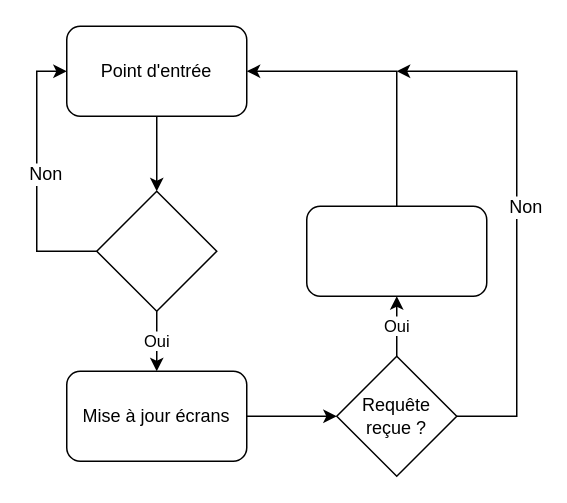
This 567x503 diagram has some shape labels left out. Here are the shapes that lost their labels. From the top down, the centre of each, then its label:
At [156,250]: "Initialisation reçue ?".
At [396,250]: "Réponse requête".
